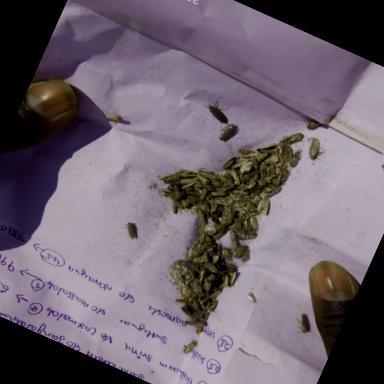pbw: (217, 121, 240, 146), (178, 336, 200, 362), (253, 137, 277, 160), (300, 116, 325, 136), (226, 240, 248, 262), (100, 109, 125, 128), (158, 168, 181, 188), (278, 145, 298, 166), (196, 168, 222, 184), (184, 316, 207, 334), (225, 167, 245, 187), (236, 229, 258, 247), (254, 198, 273, 218), (176, 166, 197, 184), (272, 140, 290, 161), (264, 182, 282, 202), (214, 180, 234, 198), (180, 258, 202, 274), (288, 148, 304, 170), (240, 220, 258, 238), (239, 178, 257, 196), (208, 196, 231, 210), (211, 226, 228, 244), (221, 154, 237, 173), (224, 229, 240, 248), (166, 196, 186, 211), (225, 224, 248, 237), (201, 271, 218, 288), (193, 208, 210, 225), (254, 149, 270, 167), (204, 298, 220, 316), (190, 242, 206, 260), (192, 252, 210, 268), (218, 272, 234, 290), (228, 214, 246, 230), (178, 174, 196, 190), (238, 246, 254, 264), (184, 186, 202, 202), (237, 146, 257, 160), (192, 174, 212, 188), (202, 260, 222, 274), (230, 186, 250, 200), (208, 186, 228, 200), (248, 185, 264, 202), (201, 233, 218, 249), (207, 286, 224, 302), (263, 152, 280, 168), (219, 248, 236, 264), (261, 181, 278, 197), (234, 154, 252, 169), (224, 270, 239, 288), (173, 295, 192, 309), (190, 282, 206, 298), (231, 158, 247, 174), (178, 303, 194, 319), (246, 216, 262, 232), (180, 178, 196, 194), (188, 296, 204, 312), (247, 155, 263, 171), (243, 208, 260, 223), (240, 150, 258, 164), (162, 176, 180, 190), (273, 160, 287, 178), (225, 207, 238, 226), (190, 308, 205, 324), (220, 264, 236, 279), (219, 259, 237, 272), (208, 252, 222, 268), (262, 170, 276, 186), (256, 162, 270, 178), (195, 269, 209, 285), (242, 290, 258, 304), (278, 168, 292, 183), (264, 162, 278, 177), (212, 240, 225, 256), (244, 200, 260, 213), (193, 180, 209, 193), (198, 207, 214, 220), (207, 178, 224, 190), (200, 280, 214, 294), (214, 220, 228, 234), (184, 268, 198, 282), (197, 187, 210, 202), (160, 190, 176, 202), (243, 196, 260, 207), (249, 169, 262, 183), (214, 213, 228, 226), (200, 200, 213, 213), (272, 174, 284, 188), (218, 210, 232, 222), (207, 202, 219, 216), (199, 310, 211, 324), (178, 198, 192, 210), (168, 201, 180, 214), (183, 289, 195, 302), (195, 298, 208, 310), (256, 176, 268, 189), (208, 216, 222, 227), (186, 193, 201, 203), (198, 294, 210, 306), (198, 232, 208, 246), (235, 206, 248, 216), (274, 158, 284, 170), (194, 324, 204, 336), (205, 228, 217, 238), (201, 249, 212, 259), (172, 184, 183, 193), (166, 183, 174, 192)
